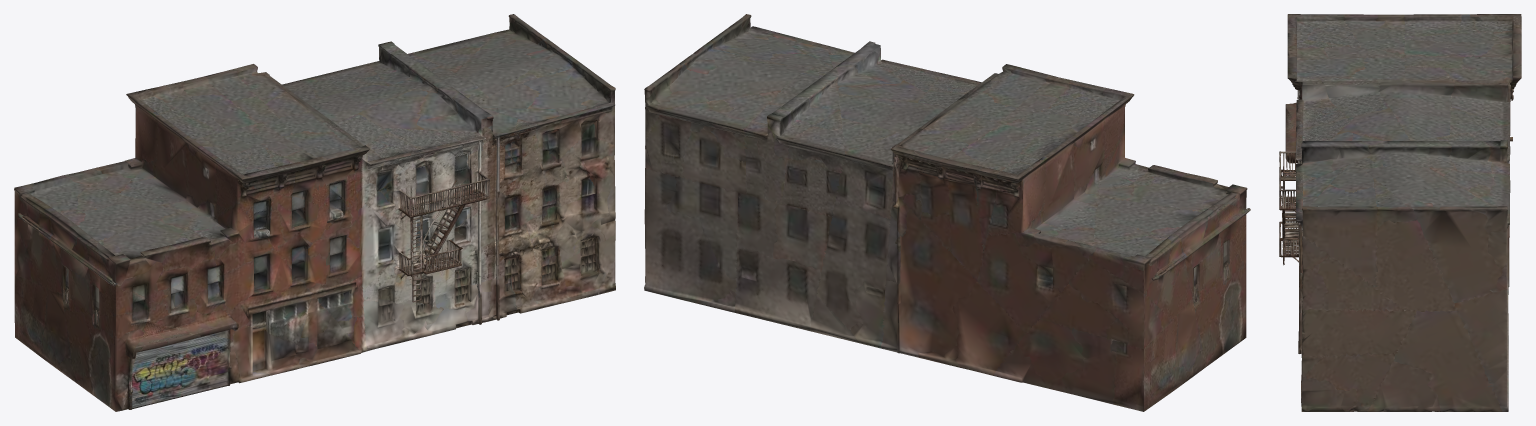
The model's file is row_four.glb.
The picture shows the model from 3 angles, left to right: view 1: azimuth 30°, elevation 25°; view 2: azimuth 150°, elevation 25°; view 3: azimuth 270°, elevation 25°; orthographic projection.
Visible parts, largest first — view 1: mesh_node; view 2: mesh_node; view 3: mesh_node.
Boxes of the visible parts, x1=… form: mesh_node: x1=14, y1=14, x2=615, y2=411; mesh_node: x1=644, y1=14, x2=1250, y2=411; mesh_node: x1=1279, y1=14, x2=1521, y2=411.
Bounding box in the file's own units: 40.33 × 16 × 16.66.
Materials: 1 (1 with a texture image).
